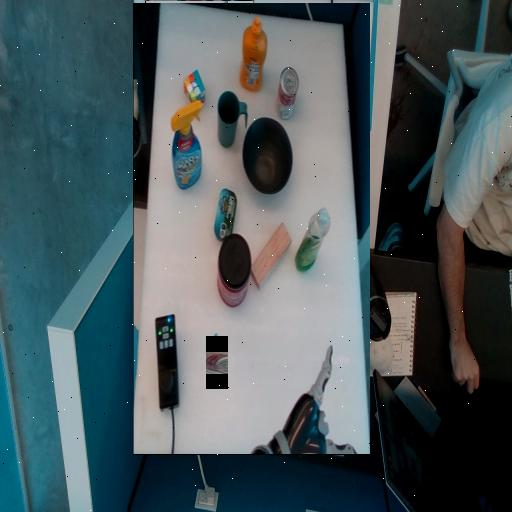bowl: (213, 262, 261, 336)
cleanser: (174, 200, 209, 234)
coffee_can: (254, 149, 286, 221)
jaco: (146, 1, 253, 110)
meat_can: (267, 216, 289, 268)
mug: (258, 309, 286, 363)
mustard_bottle: (239, 365, 263, 437)
rubik: (299, 353, 320, 387)
soup_can: (206, 352, 227, 373)
windex: (302, 268, 333, 355)
wooden_block: (213, 166, 253, 232)
workspace: (134, 3, 370, 454)
